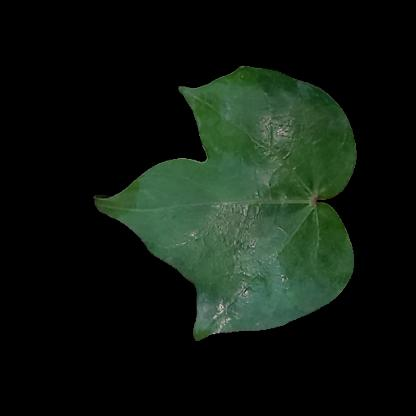healthy: (149, 172, 321, 253), (197, 249, 313, 317), (226, 85, 312, 167), (314, 115, 346, 187)
